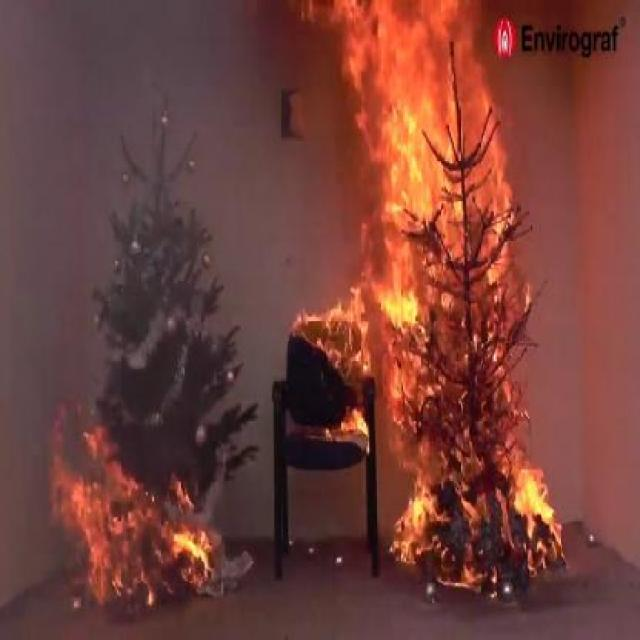fire: (378, 92, 552, 580), (60, 423, 200, 583)
smoke: (51, 39, 316, 319)
